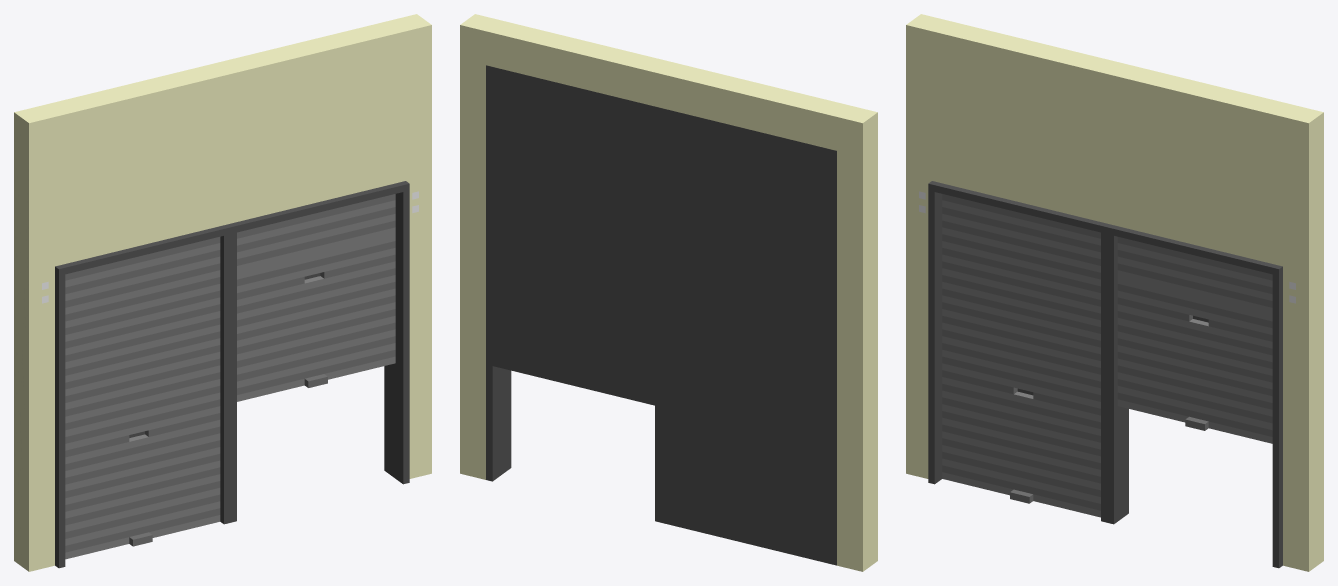
File: rollingDoorThree.glb
3 renders of one model, left to right at view 1: azimuth 30°, elevation 25°; view 2: azimuth 150°, elevation 25°; view 3: azimuth 330°, elevation 25°, orthographic.
Parts seen in each view (by area): view 1: ObjObject; view 2: ObjObject; view 3: ObjObject.
Part boxes in pixels (left/top/right/bottom): ObjObject: left=14, top=14, right=431, bottom=571; ObjObject: left=460, top=14, right=877, bottom=571; ObjObject: left=906, top=14, right=1323, bottom=571.
Bounding box in the file's own units: 6.2 × 6.6 × 0.5.
Materials: 1 (1 with a texture image).
